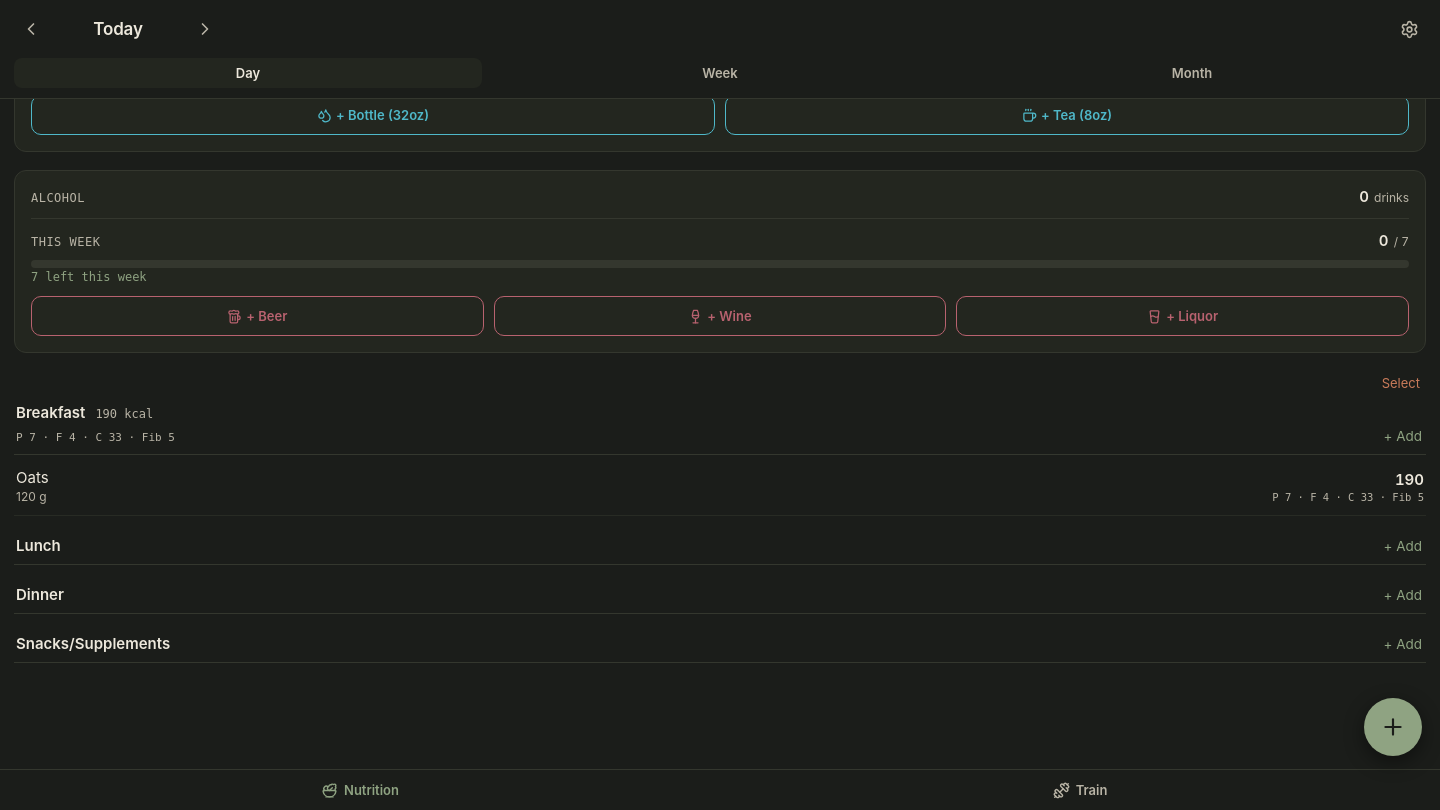
Test: App › stars a logged food into My foods from its entry, and unstars one already there
(page scrolled)
Step 1. Click the text "Oats" → click(32, 478), box [16, 468, 49, 487]
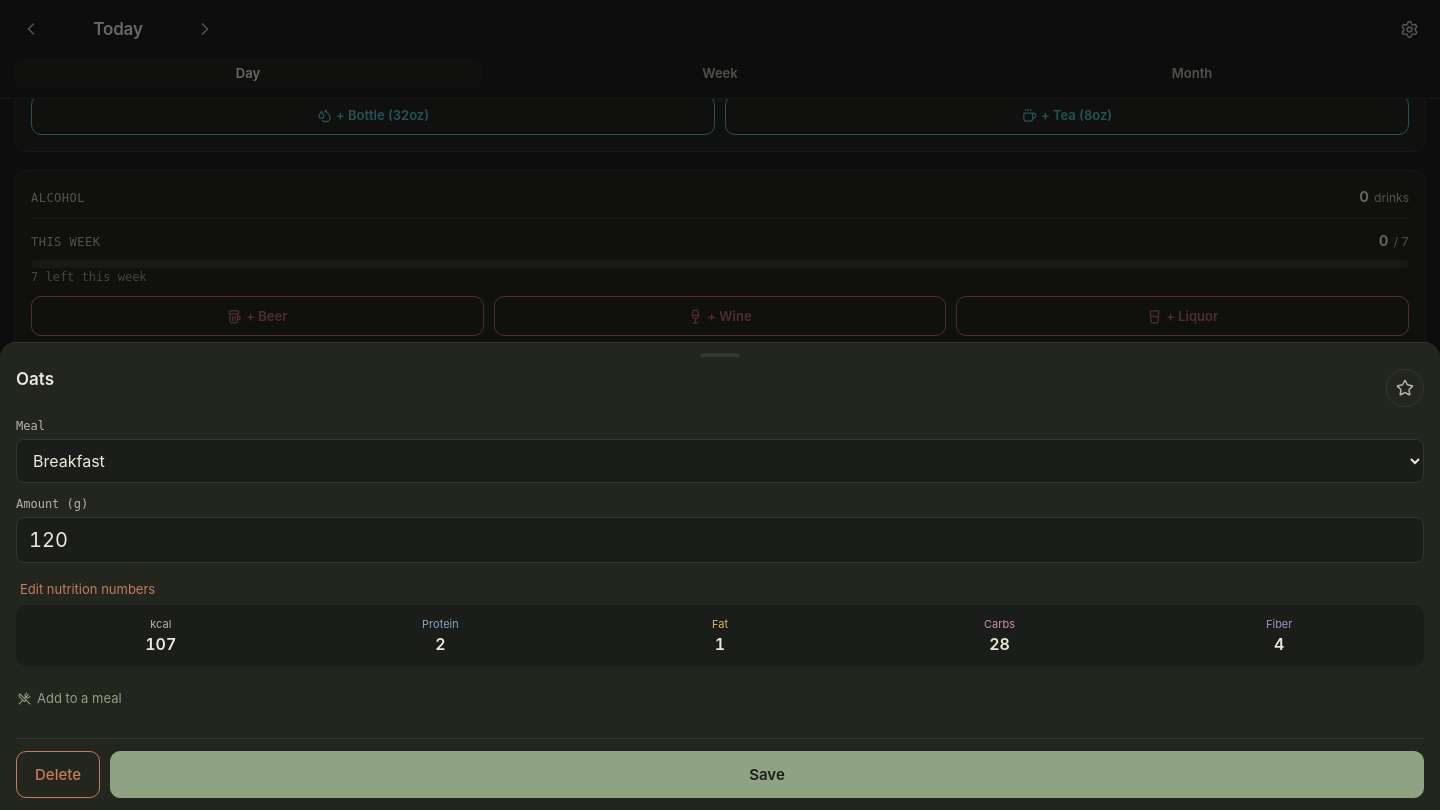
Step 2. Click the button named "Save Oats to My foods" → click(1405, 388), box [1386, 369, 1424, 407]
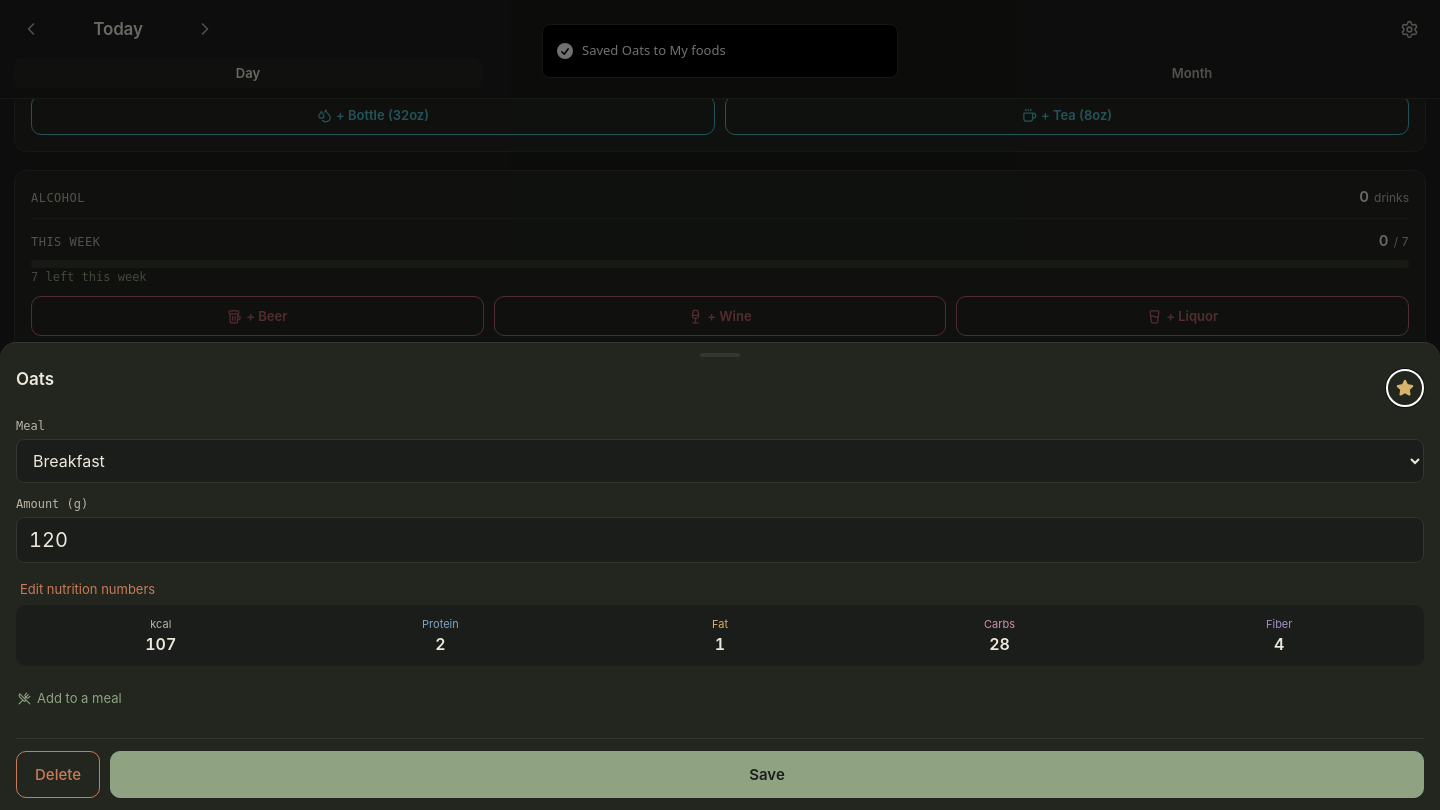
Expected: the button named "Remove Oats from My foods" is pressed
Step 3. Click the button named "Remove Oats from My foods" → click(1405, 388), box [1386, 369, 1424, 407]
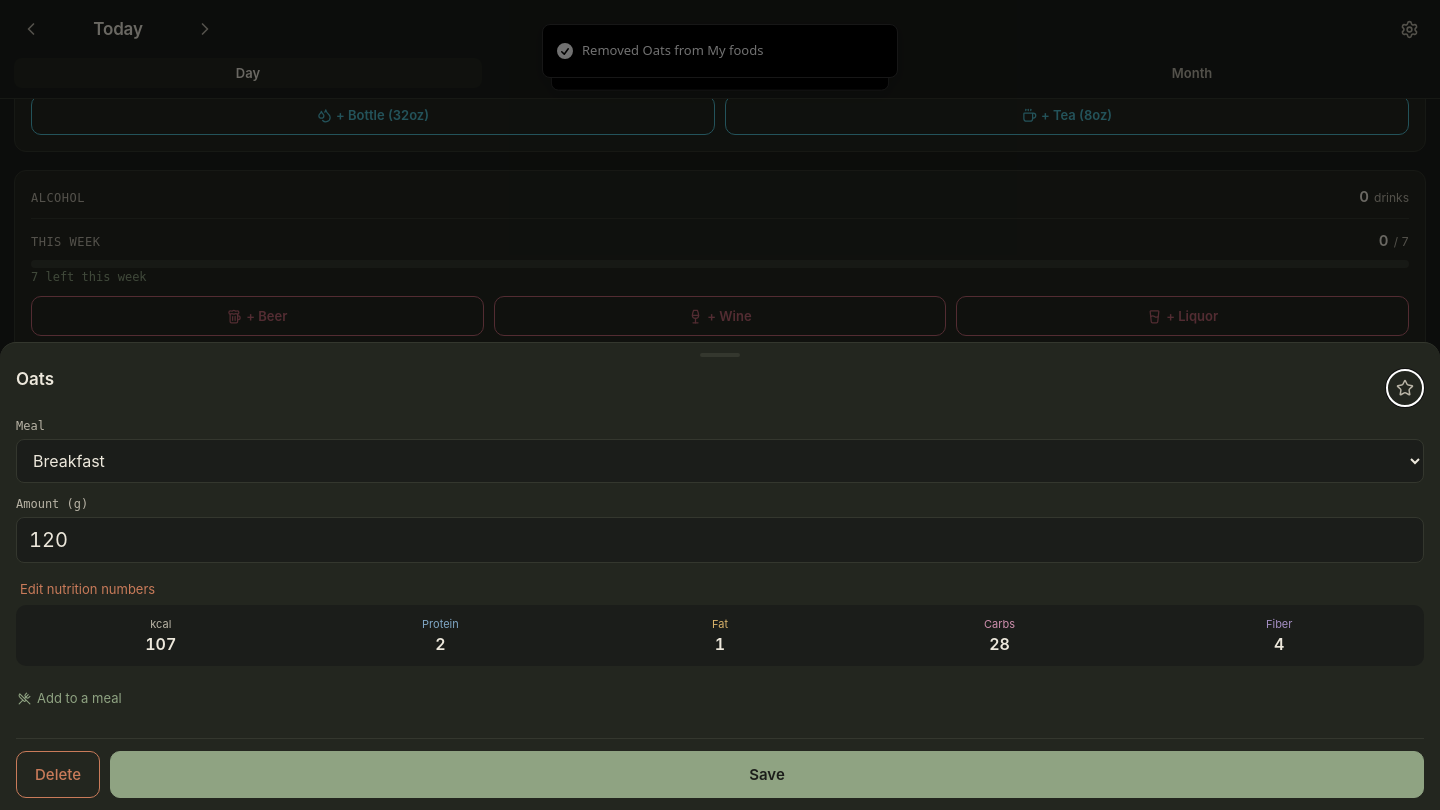
Expected: the button named "Save Oats to My foods" is shown, [1386, 369, 1424, 407]
